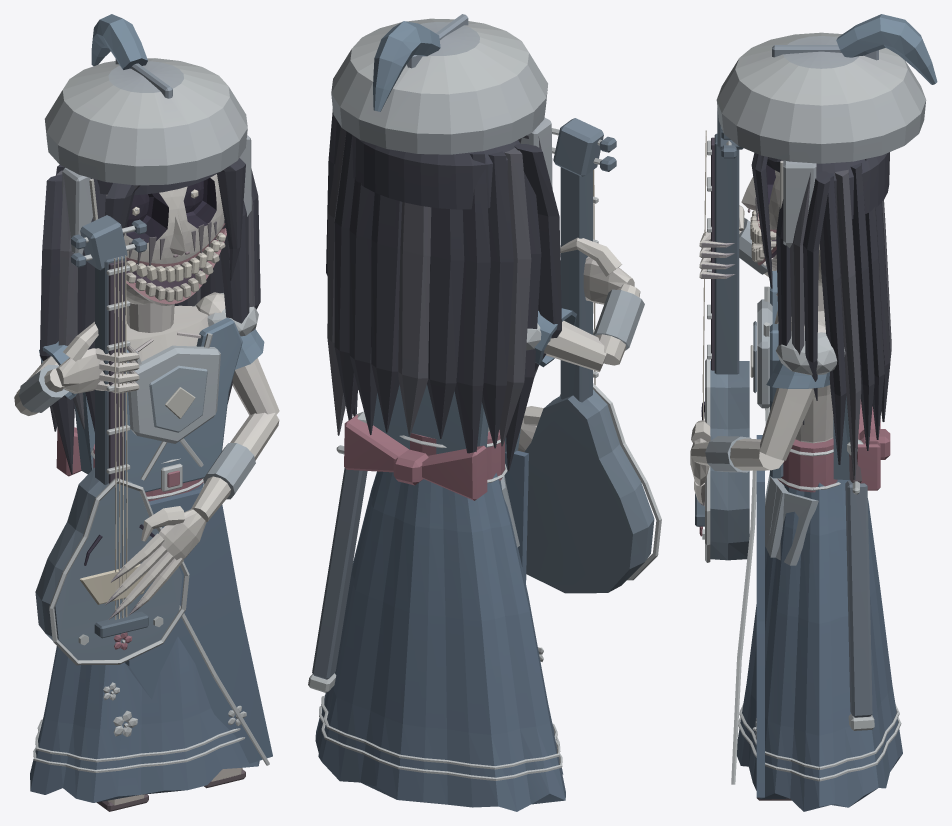
Rendered from MimicKnight.glb.
3 renders of one model, left to right at view 1: azimuth 30°, elevation 25°; view 2: azimuth 150°, elevation 25°; view 3: azimuth 270°, elevation 25°, orthographic. The views are drawn at different scales.
Parts seen in each view (by area): view 1: Body, Head, ArmL, ArmR, LegR; view 2: Body, Head, ArmR, ArmL; view 3: Body, Head, ArmL, ArmR.
Part boxes in pixels (x1,y1,x2,y2): Body: (30, 215, 272, 802); Head: (39, 14, 260, 474); ArmL: (104, 292, 279, 619); ArmR: (14, 321, 139, 415); LegR: (97, 794, 148, 811); Body: (308, 118, 661, 811); Head: (326, 14, 561, 471); ArmR: (526, 237, 644, 372); ArmL: (517, 406, 543, 451); Body: (695, 108, 902, 811); Head: (716, 14, 937, 480); ArmL: (690, 321, 845, 505); ArmR: (699, 205, 768, 278).
Size of the model in its own units: 3.1 by 8.08 by 2.4.
